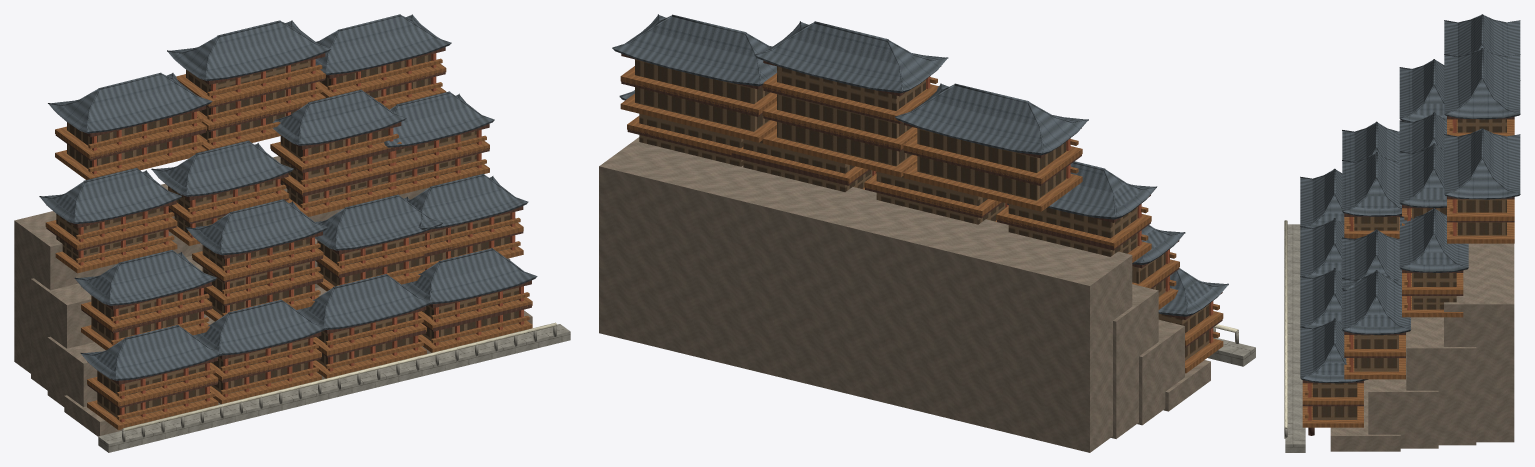
File: hongyadong.glb
3 renders of one model, left to right at view 1: azimuth 30°, elevation 25°; view 2: azimuth 150°, elevation 25°; view 3: azimuth 270°, elevation 25°, orthographic. The views are drawn at different scales.
Parts seen in each view (by area): view 1: 重庆洪崖洞; view 2: 重庆洪崖洞; view 3: 重庆洪崖洞.
Part boxes in pixels (x1,y1,x2,y2): 重庆洪崖洞: (14,14,570,452); 重庆洪崖洞: (599,14,1255,452); 重庆洪崖洞: (1284,14,1520,452).
Size of the model in its own units: 6.6 by 4.07 by 3.
8 materials, 8 textured.
